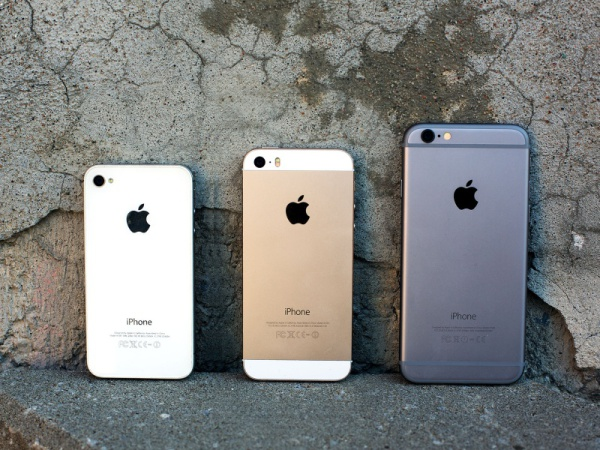apple: (277, 191, 316, 231), (122, 201, 163, 239), (447, 176, 482, 216)
